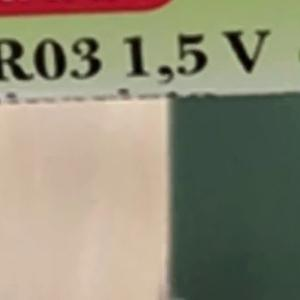keyword: (109, 20, 276, 106)
